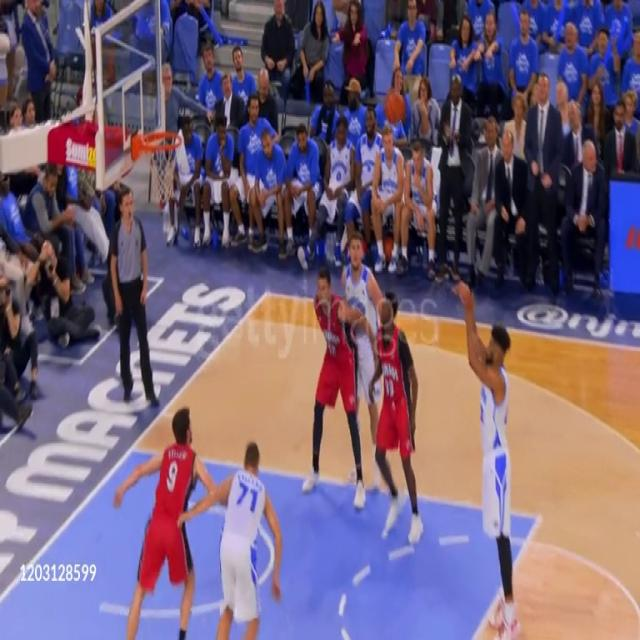ball: (384, 88, 407, 124)
